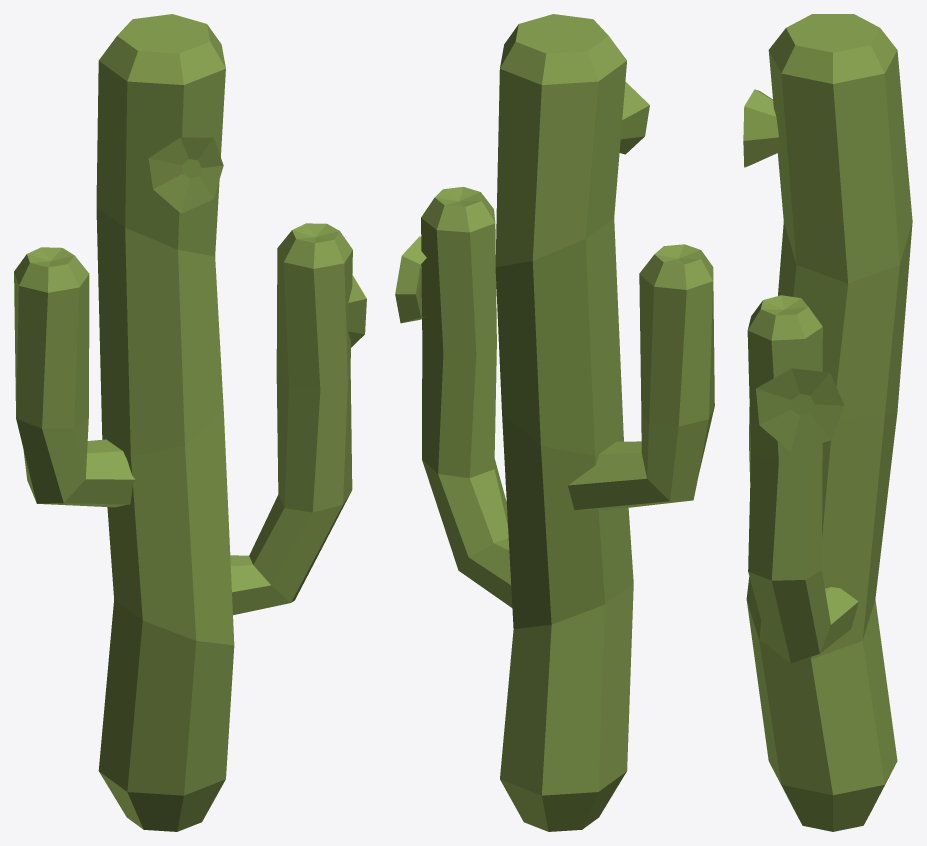
The model's file is cactus.fbx.
3 views of the same model, side by side, from view 1: azimuth 30°, elevation 25°; view 2: azimuth 150°, elevation 25°; view 3: azimuth 270°, elevation 25° (orthographic).
Visible parts, largest first — view 1: cactus01; view 2: cactus01; view 3: cactus01.
Boxes of the visible parts, <box> form: cactus01: <box>14,14,366,831</box>; cactus01: <box>395,14,714,831</box>; cactus01: <box>743,14,912,831</box>.
Bounding box in the file's own units: 1.12 × 2.67 × 0.5227.
